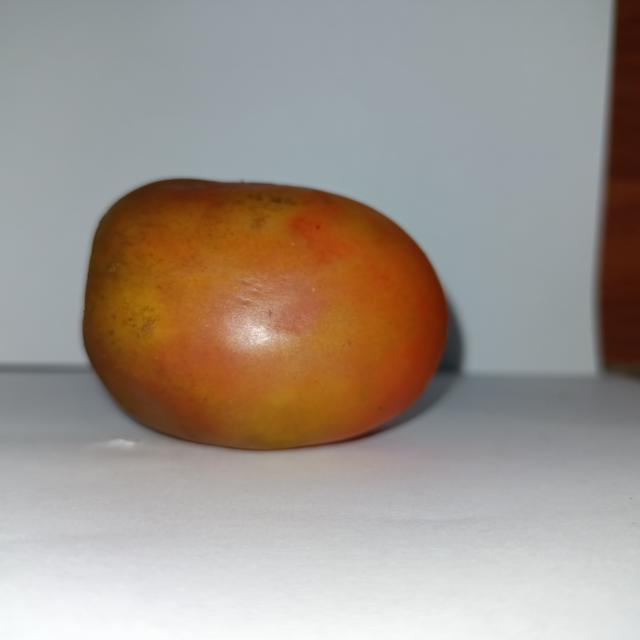Red: (80, 175, 450, 451)
